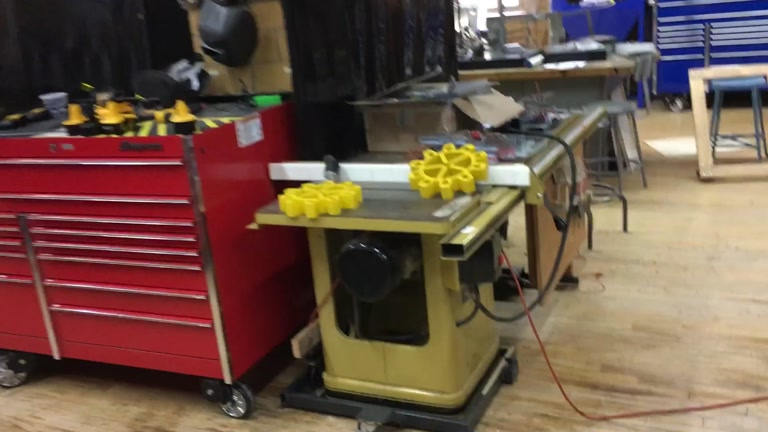gear: (407, 141, 488, 200), (277, 176, 362, 220)
